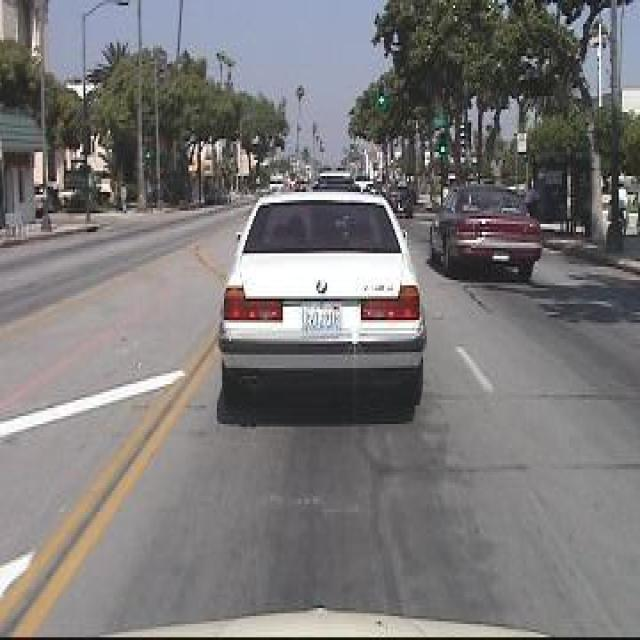car_back: (212, 177, 434, 395), (432, 177, 545, 280)
